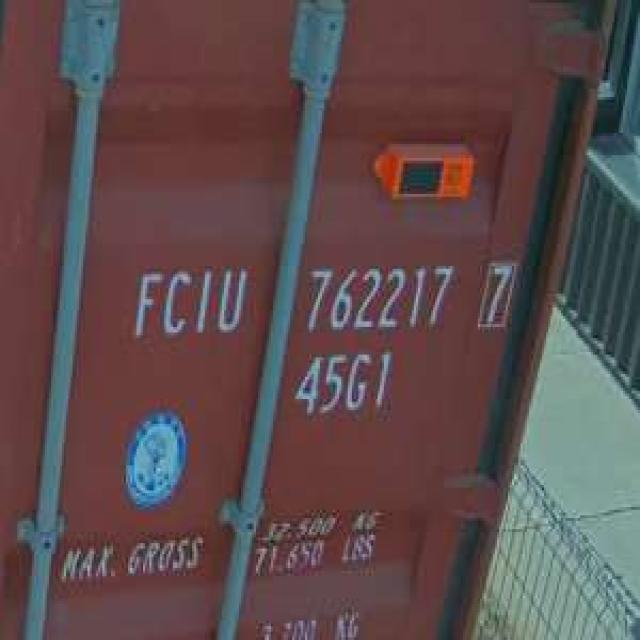dv: (478, 256, 515, 334)
owner: (122, 263, 254, 343)
serial: (301, 258, 455, 334)
size: (294, 349, 393, 420)
